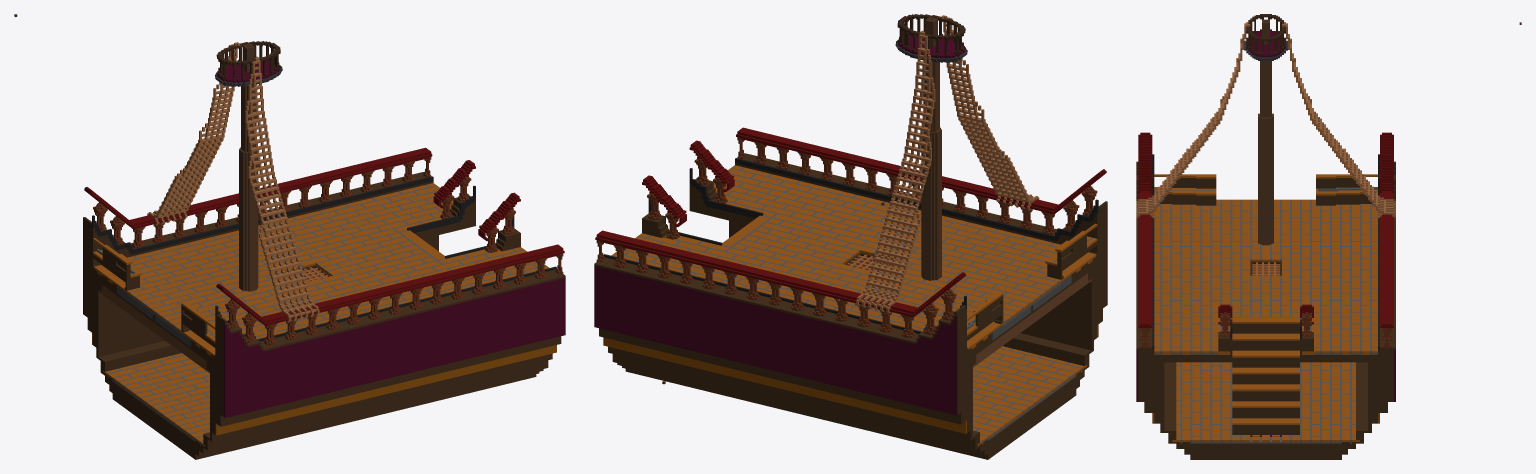
The model's file is enemyship-6.obj.
The picture shows the model from 3 angles, left to right: view 1: azimuth 30°, elevation 25°; view 2: azimuth 150°, elevation 25°; view 3: azimuth 270°, elevation 25°; orthographic projection. The views are drawn at different scales.
Bounding box in the file's own units: 18 × 18.2 × 19.3.
Materials: 1 (1 with a texture image).
